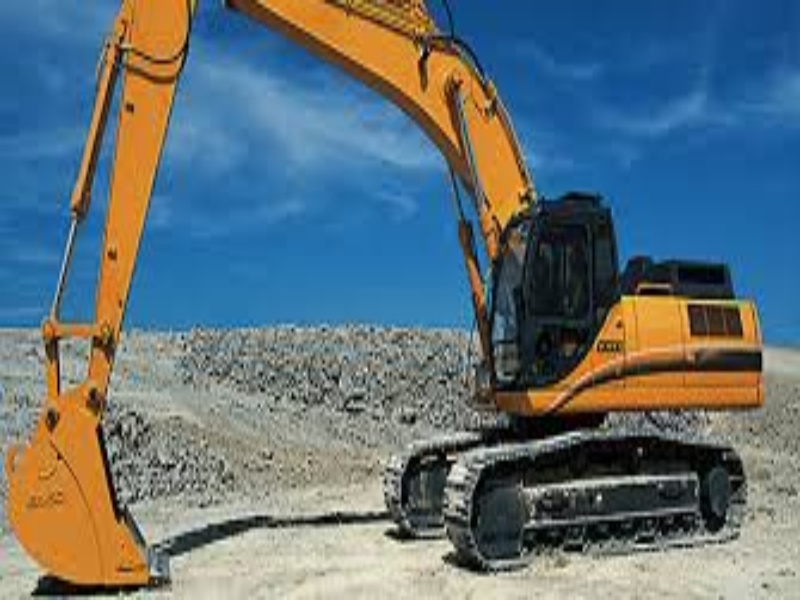wajueji: (394, 157, 781, 591)
